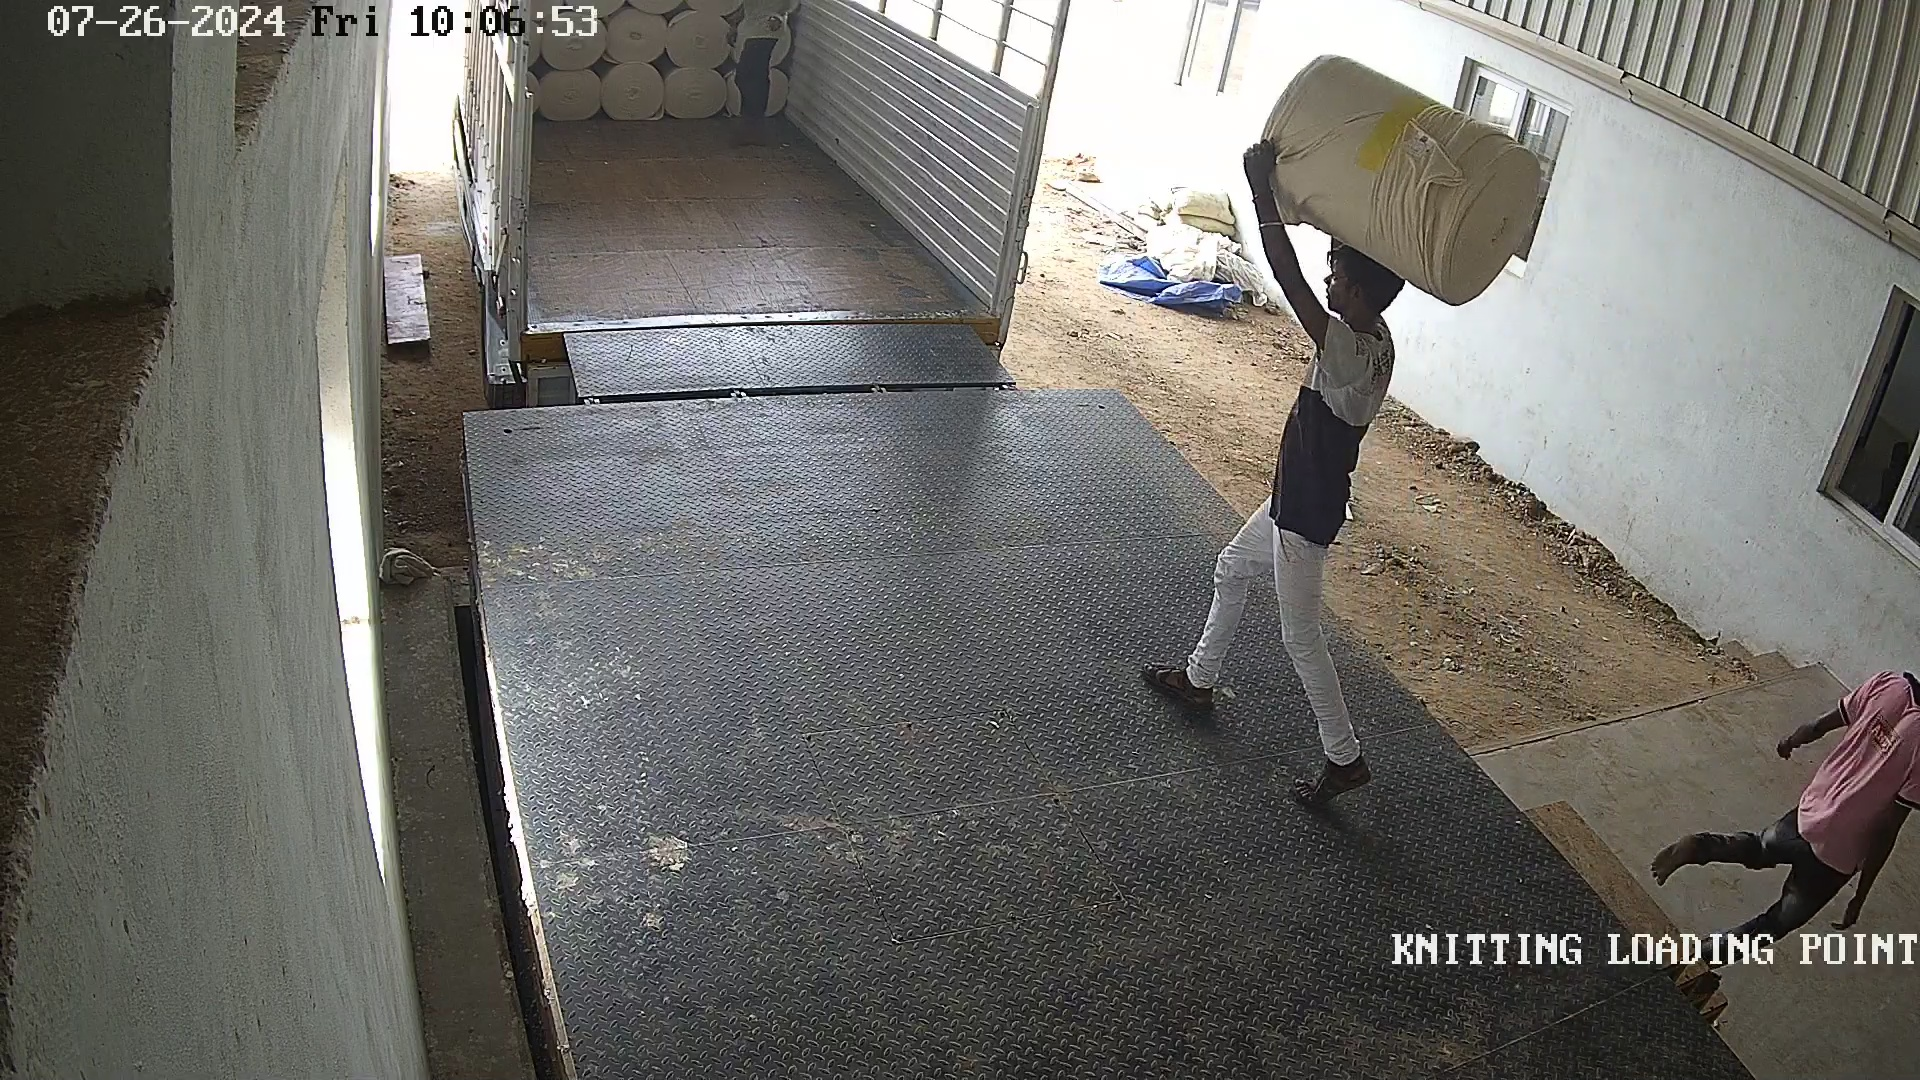bag: (1247, 47, 1549, 316)
